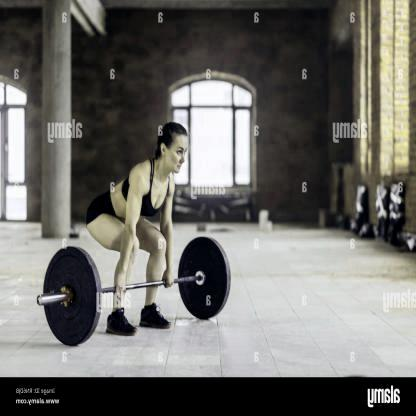Barbell: (29, 289, 46, 314)
